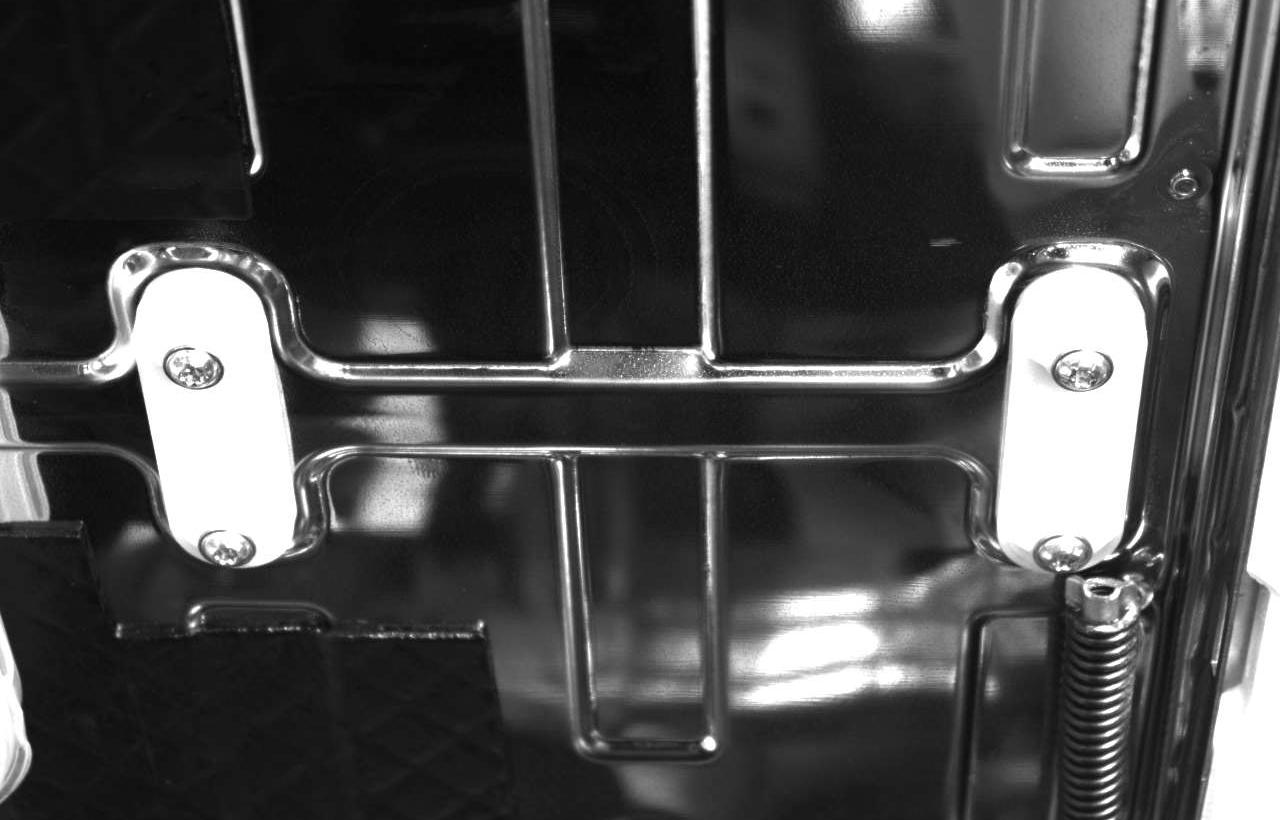vida-ok: (156, 321, 242, 398), (1026, 336, 1114, 408), (183, 514, 264, 578), (1025, 525, 1100, 583)
